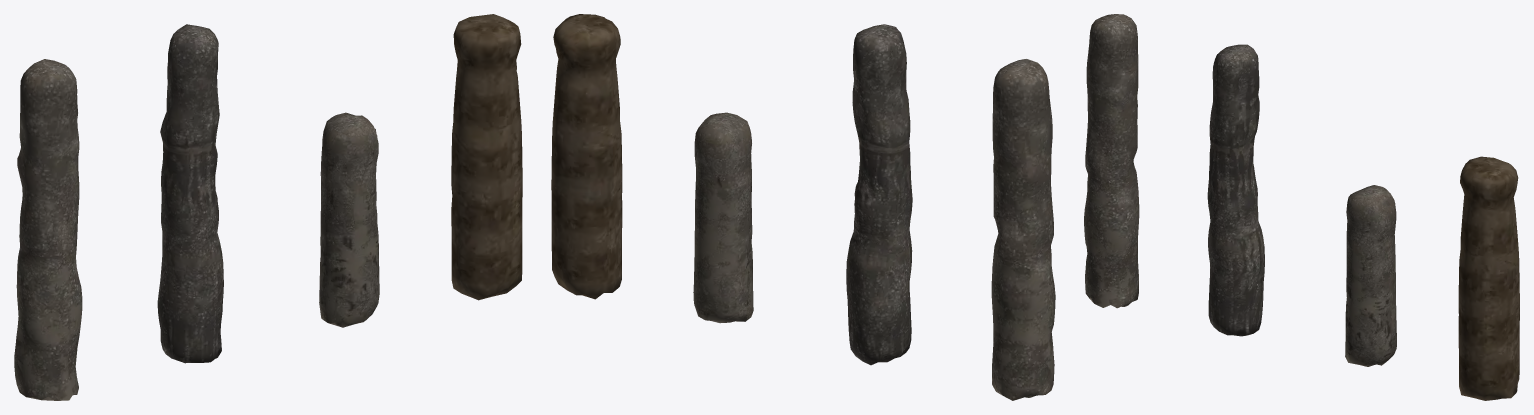
File: columns.glb
The picture shows the model from 3 angles, left to right: view 1: azimuth 30°, elevation 25°; view 2: azimuth 150°, elevation 25°; view 3: azimuth 330°, elevation 25°; orthographic projection. The views are drawn at different scales.
Visible parts, largest first — view 1: round pillar 2 low, round pillar 4 low, round pillar low, rpund pillar3 low; view 2: round pillar 2 low, round pillar low, round pillar 4 low, rpund pillar3 low; view 3: round pillar 2 low, round pillar low, round pillar 4 low, rpund pillar3 low.
Part boxes in pixels (x1,y1,x2,y2): round pillar 2 low: (14,59,82,400); round pillar 4 low: (451,14,522,300); round pillar low: (157,24,223,363); rpund pillar3 low: (319,112,379,327); round pillar 2 low: (991,59,1055,400); round pillar low: (846,24,912,365); round pillar 4 low: (551,14,622,299); rpund pillar3 low: (693,112,753,323); round pillar 2 low: (1084,14,1139,308); round pillar low: (1207,44,1264,336); round pillar 4 low: (1458,156,1519,400); rpund pillar3 low: (1345,185,1396,366).
Bounding box in the file's own units: 20.89 × 13.18 × 2.56.
4 materials, 4 textured.
